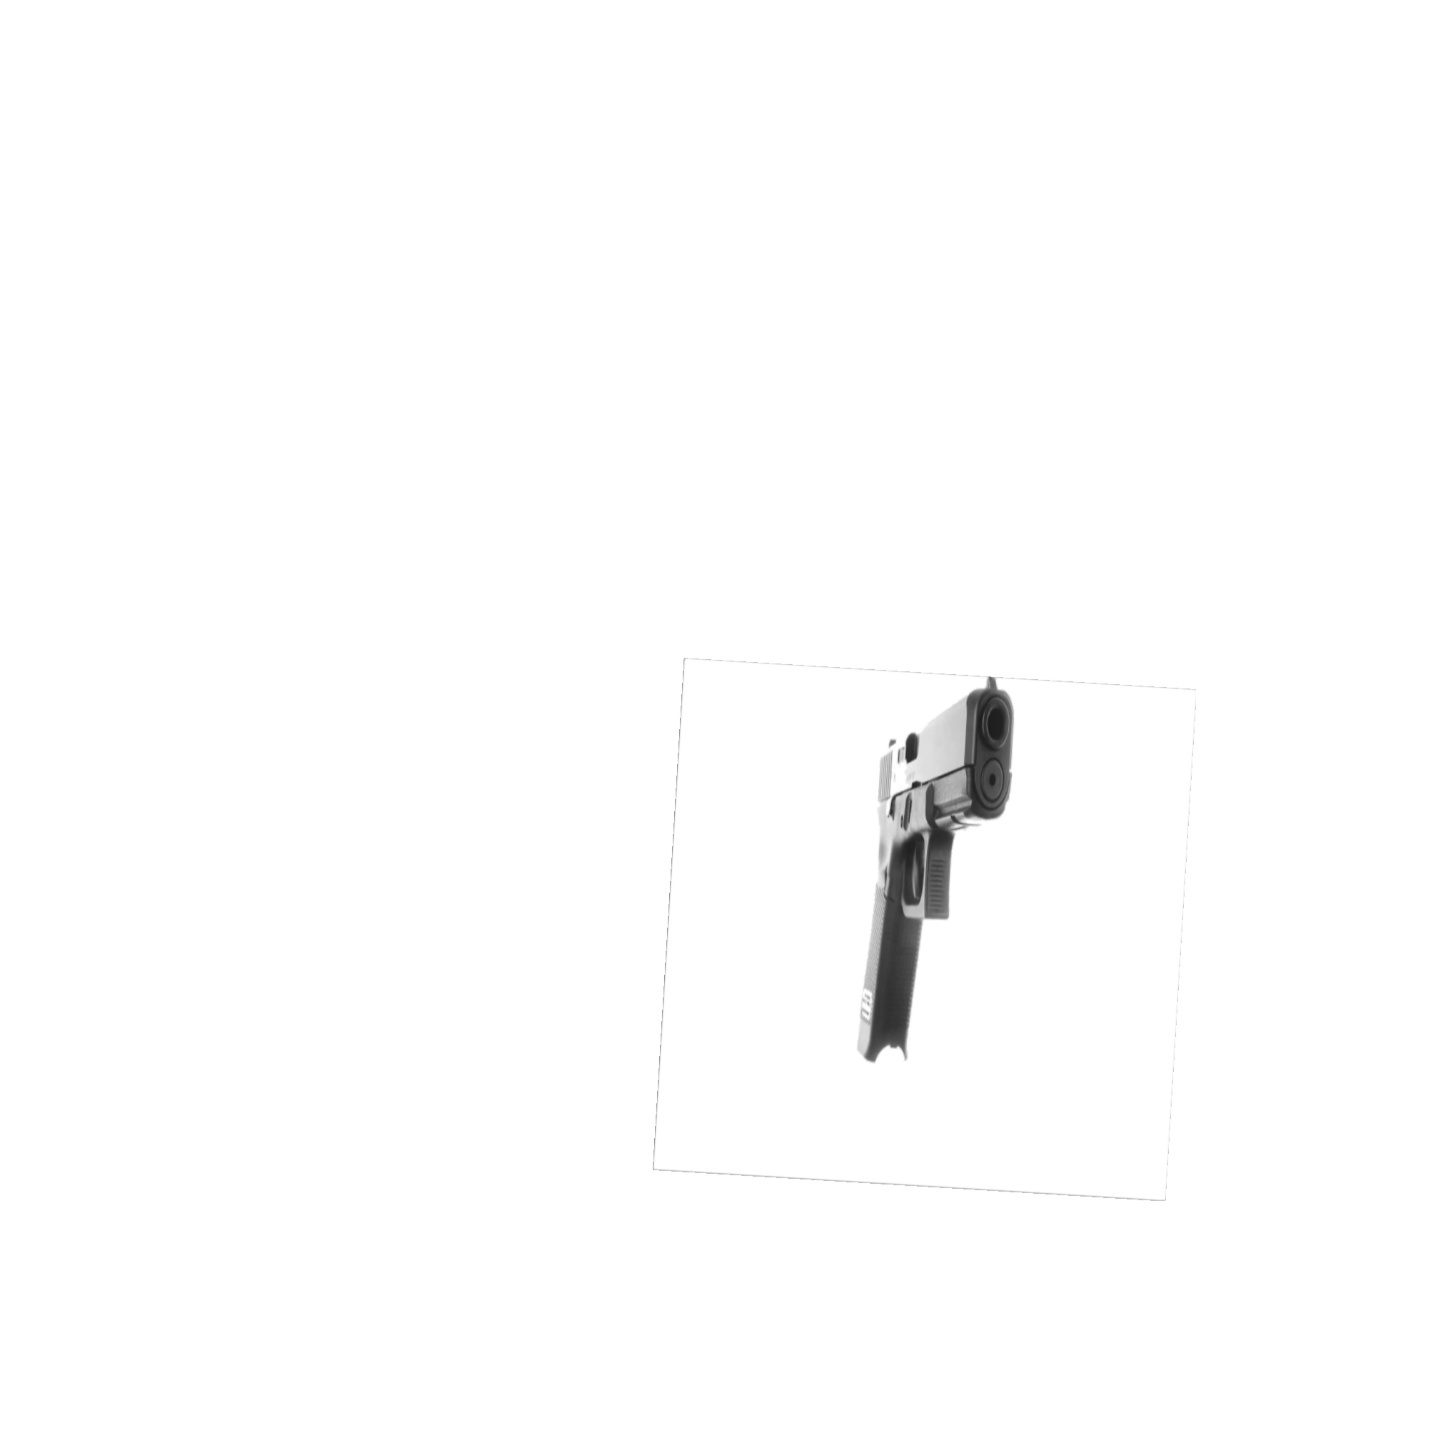gun: (857, 677, 1013, 1061)
